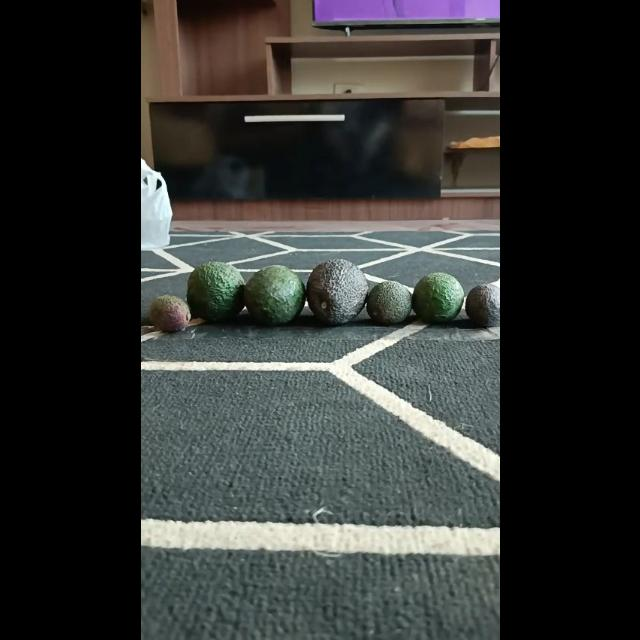Primera: (306, 259, 368, 325), (242, 265, 304, 325), (186, 261, 246, 321)
Segunda: (412, 272, 464, 324)
Tercera: (366, 281, 412, 325), (146, 293, 192, 333), (464, 282, 500, 328)
